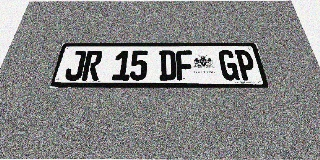1: (112, 50, 131, 80)
5: (129, 50, 148, 80)
D: (159, 50, 176, 80)
F: (176, 50, 194, 80)
G: (218, 50, 240, 80)
J: (63, 50, 87, 80)
P: (234, 50, 258, 80)
R: (81, 50, 103, 80)
